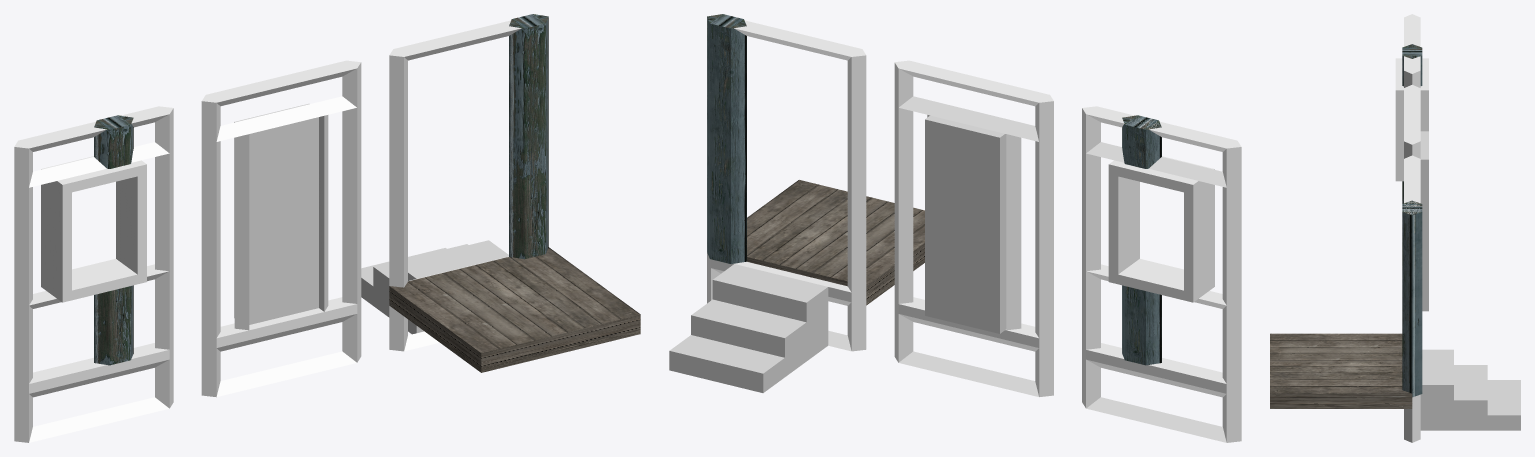
Rendered from modular_house.glb.
3 views of the same model, side by side, from view 1: azimuth 30°, elevation 25°; view 2: azimuth 150°, elevation 25°; view 3: azimuth 270°, elevation 25° (orthographic). The views are drawn at different scales.
Visible parts, largest first — view 1: WindowFrame, DoorFrame, FloorSquare, Door, WoodPanel, WallFrame, Stairs, WindowPanel, DoorPanel; view 2: WindowFrame, DoorFrame, Door, Stairs, FloorSquare, WoodPanel, WallFrame, WindowPanel, DoorPanel; view 3: FloorSquare, Stairs, WoodPanel, WindowFrame, WallFrame, Door, DoorFrame, DoorPanel.
Boxes of the visible parts, x1,y1,x2,y2 form: WindowFrame: [14, 106, 173, 442]; DoorFrame: [201, 60, 361, 397]; FloorSquare: [389, 247, 640, 372]; Door: [234, 103, 318, 324]; WoodPanel: [509, 14, 548, 259]; WallFrame: [389, 20, 521, 351]; Stairs: [361, 240, 508, 334]; WindowPanel: [94, 285, 133, 365]; DoorPanel: [94, 115, 133, 168]; WindowFrame: [1082, 106, 1241, 442]; DoorFrame: [894, 60, 1053, 397]; Door: [925, 115, 1006, 333]; Stairs: [669, 264, 828, 392]; FloorSquare: [747, 180, 924, 305]; WoodPanel: [707, 14, 746, 263]; WallFrame: [707, 20, 866, 351]; WindowPanel: [1122, 285, 1161, 365]; DoorPanel: [1122, 115, 1161, 168]; FloorSquare: [1270, 333, 1412, 408]; Stairs: [1420, 349, 1520, 430]; WoodPanel: [1402, 200, 1422, 397]; WindowFrame: [1395, 14, 1428, 181]; WallFrame: [1404, 155, 1420, 442]; Door: [1420, 131, 1428, 311]; DoorFrame: [1404, 84, 1420, 158]; DoorPanel: [1402, 44, 1422, 86].
Size of the model in its own units: 5.7 by 3 by 3.
3 materials, 2 textured.
